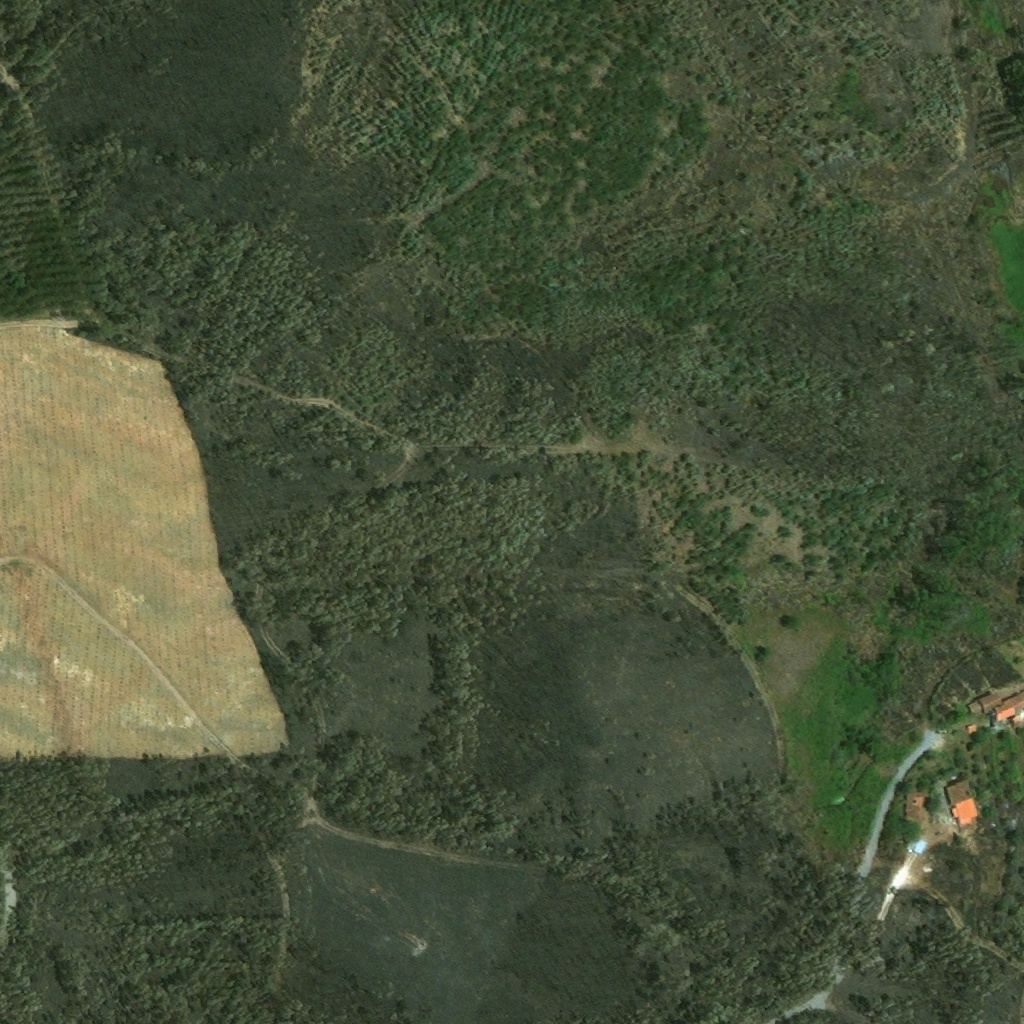0 no-damage: (966, 687, 1018, 721), (942, 780, 978, 828), (902, 836, 926, 857), (902, 791, 923, 813), (900, 812, 927, 828), (988, 717, 1007, 736), (1013, 689, 1023, 712), (1010, 715, 1020, 725), (966, 723, 975, 734)
